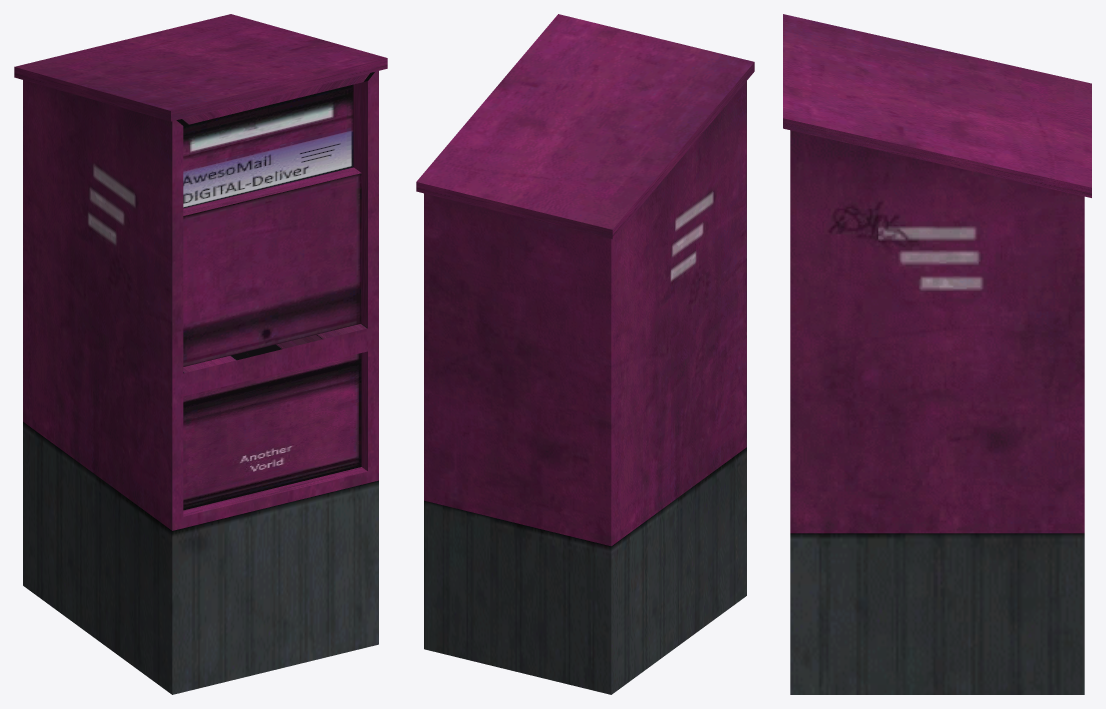
The model's file is UDC_MailBox.obj.
3 views of the same model, side by side, from view 1: azimuth 30°, elevation 25°; view 2: azimuth 150°, elevation 25°; view 3: azimuth 270°, elevation 25° (orthographic). The views are drawn at different scales.
Parts seen in each view (by area): view 1: UDC_MailBox; view 2: UDC_MailBox; view 3: UDC_MailBox.
Boxes of the visible parts, x1,y1,x2,y2 form: UDC_MailBox: (14, 14, 387, 694); UDC_MailBox: (416, 14, 754, 694); UDC_MailBox: (783, 14, 1091, 694).
Bounding box in the file's own units: 0.3101 × 0.8036 × 0.3884.
1 material, 1 textured.
